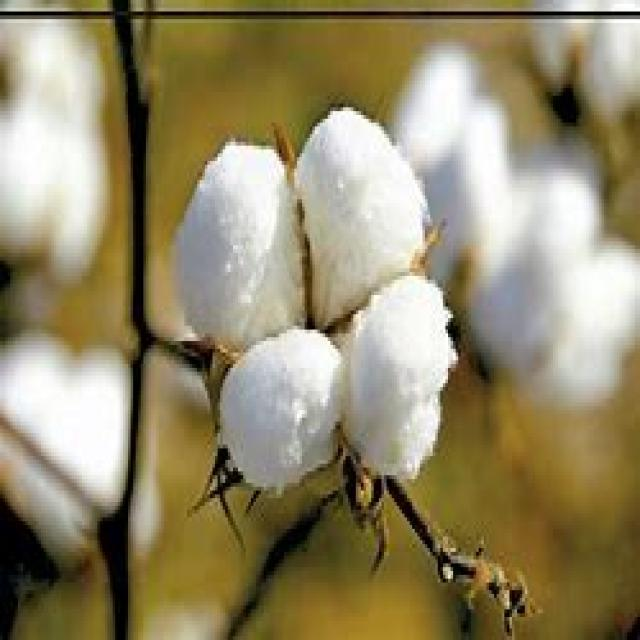Matured Cotton Boll: (174, 94, 457, 505)
